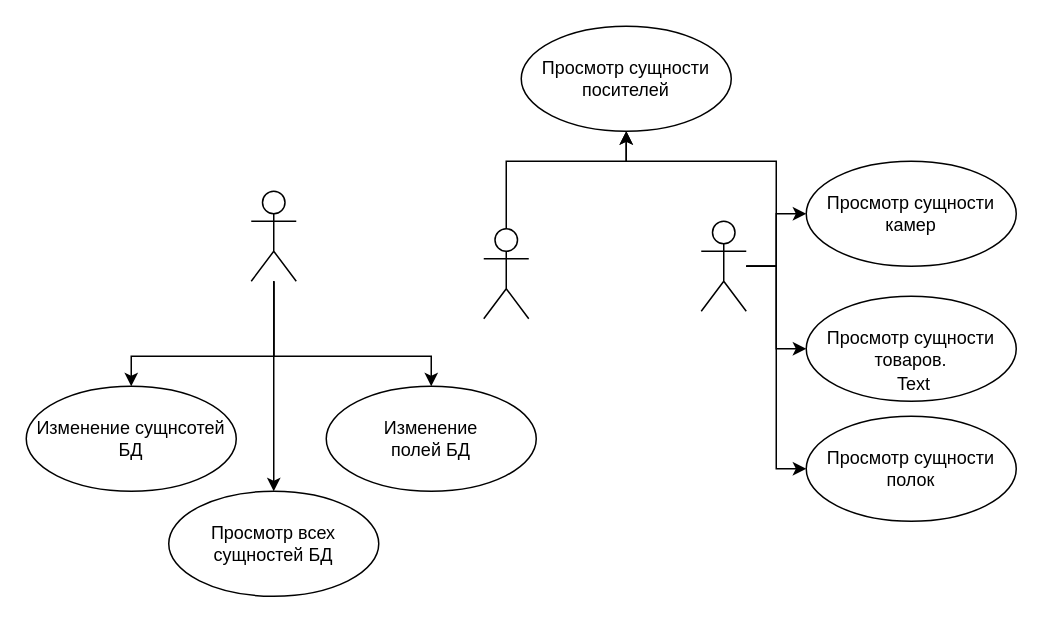
This 1043x623 diagram has some shape labels left out. The centre of each missing label's shape, as x and y in pixels:
Администратор: pixel 273 235
Охрана: pixel 723 265
Сотрудник магазина: pixel 505 273
